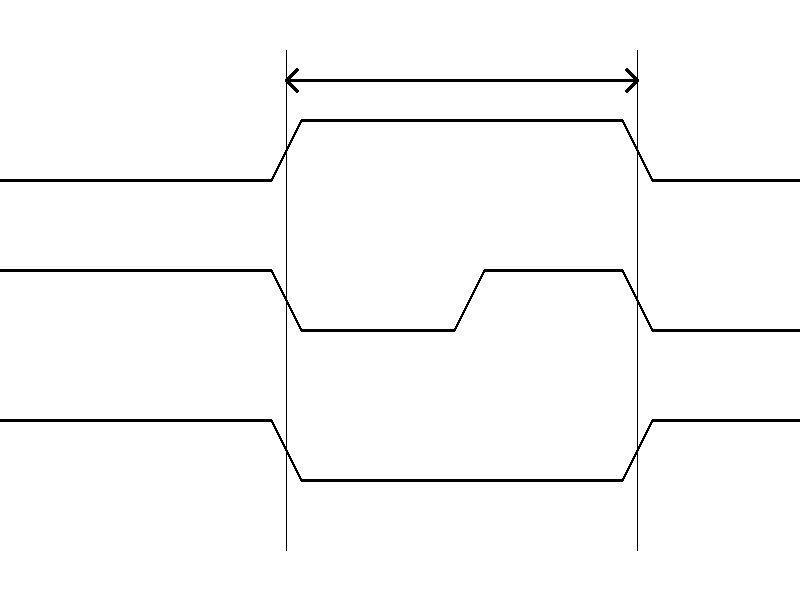double_arrow: (286, 65, 637, 95)
